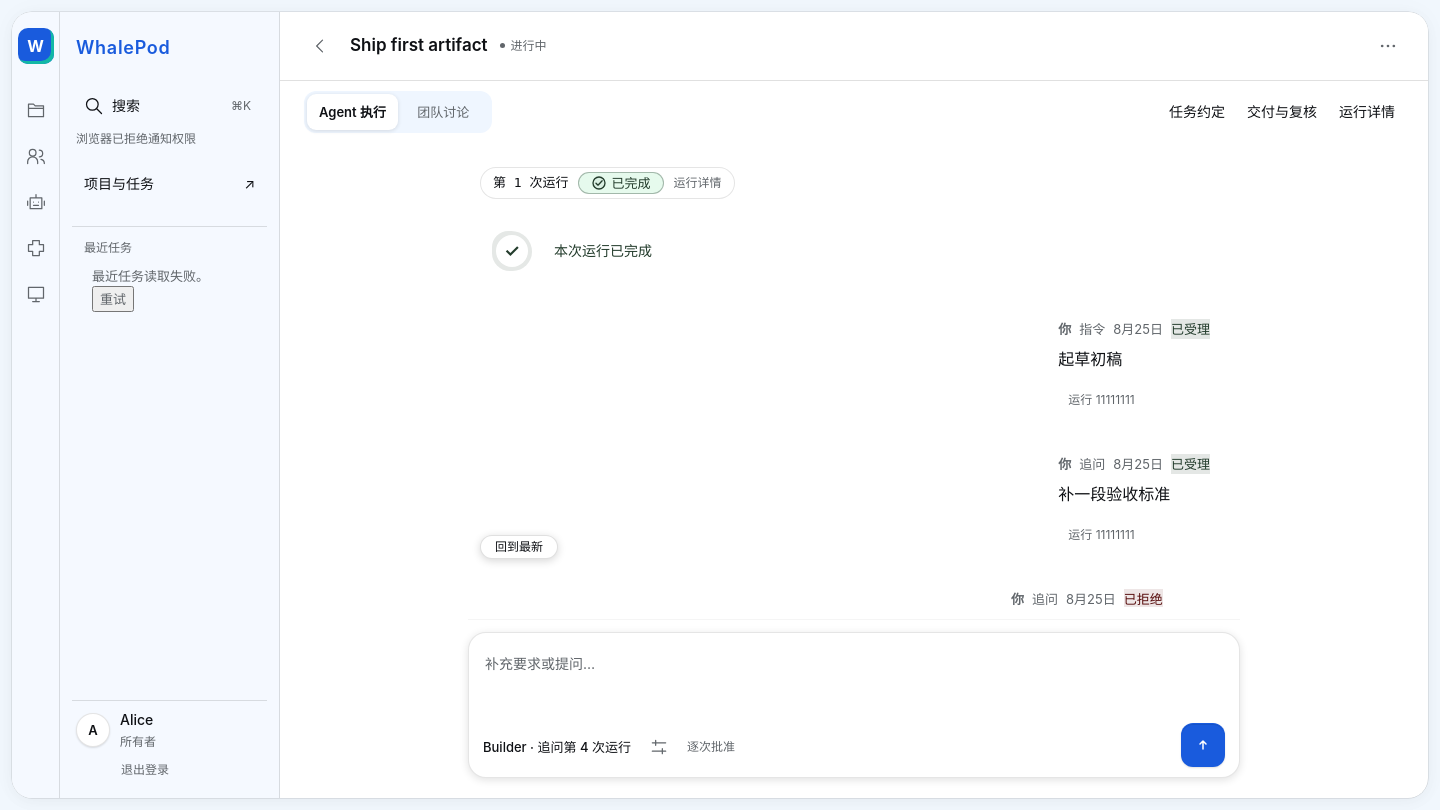
Test: 连续对话：段序与历史阅读（判据 1） › 多次执行/续聊/重跑/追问/拒绝指令连续呈现；历史回复不因查看另一运行而消失
Check: the list item with test id "run-segment" shows "起草初稿", box x1=1058 y1=349 x2=1122 y2=369
// 打开第 1 段的运行详情（查看历史）：别的段的回复不消失，发送目标不变。
Step 1. Click the button "第 1 次运行 已完成 运行详情" → click(607, 183), box x1=480 y1=167 x2=734 y2=199
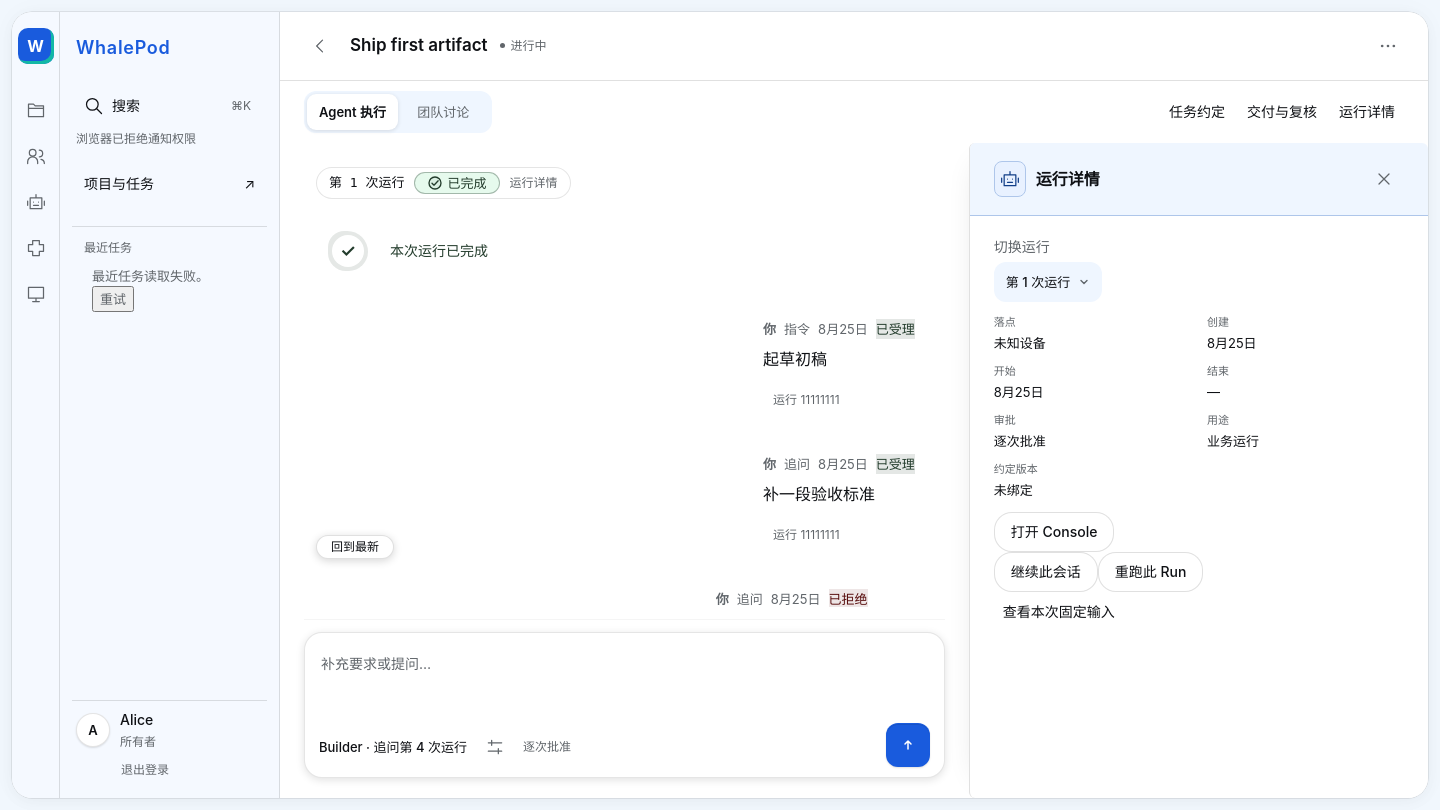
Check: the element with test id "run-detail-meta" is shown, box x1=994 y1=315 x2=1259 y2=498
// 血缘说人话：续跑自/重跑自第 N 次运行。
Step 2. Click the button with aria-label "切换运行" → click(1048, 282), box x1=994 y1=262 x2=1102 y2=302
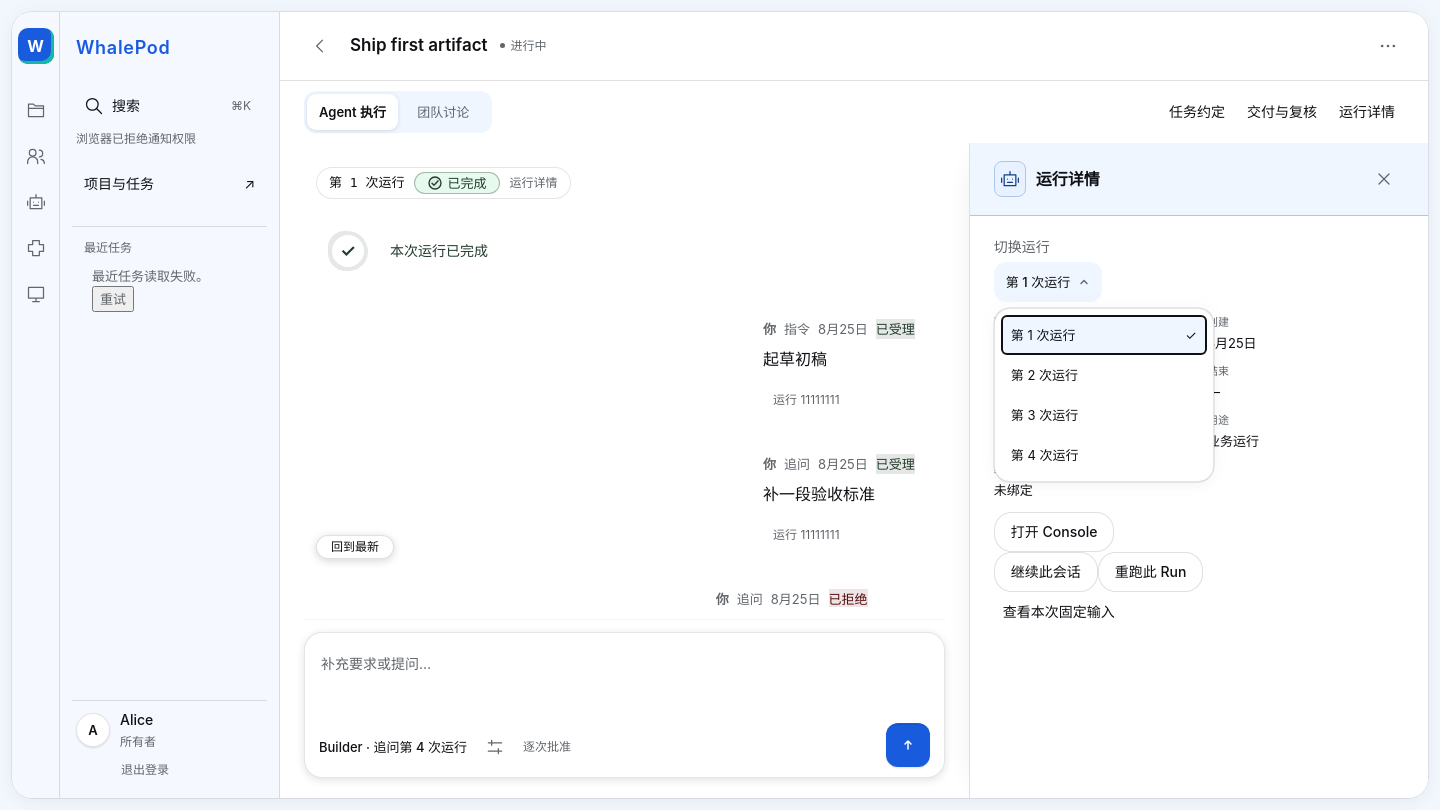
Step 3. Click the menu item "第 2 次运行" → click(1104, 375), box x1=1001 y1=355 x2=1207 y2=395
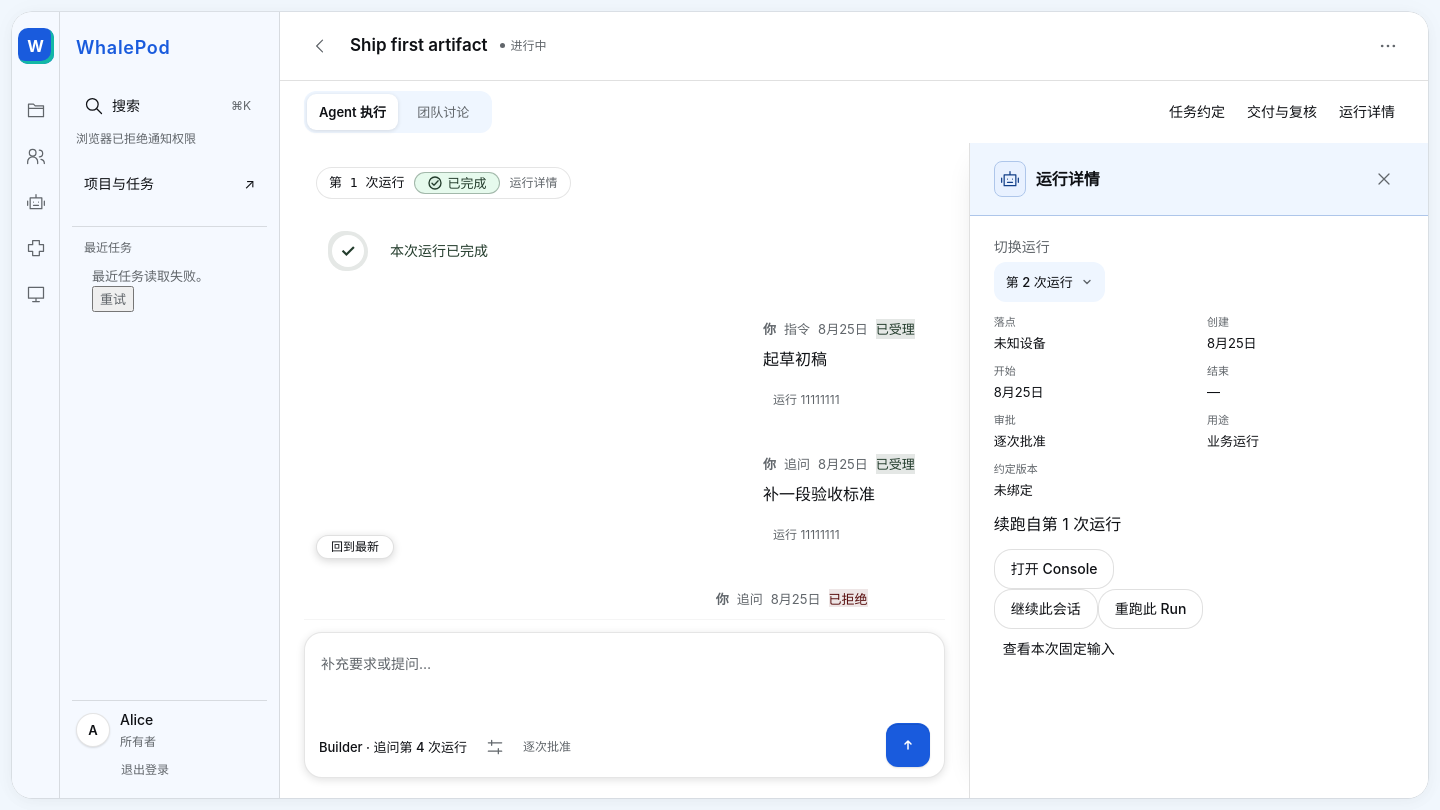
Check: the text "续跑自第 1 次运行" is shown, box x1=994 y1=514 x2=1121 y2=534
Step 4. Press Escape
(page scrolled)
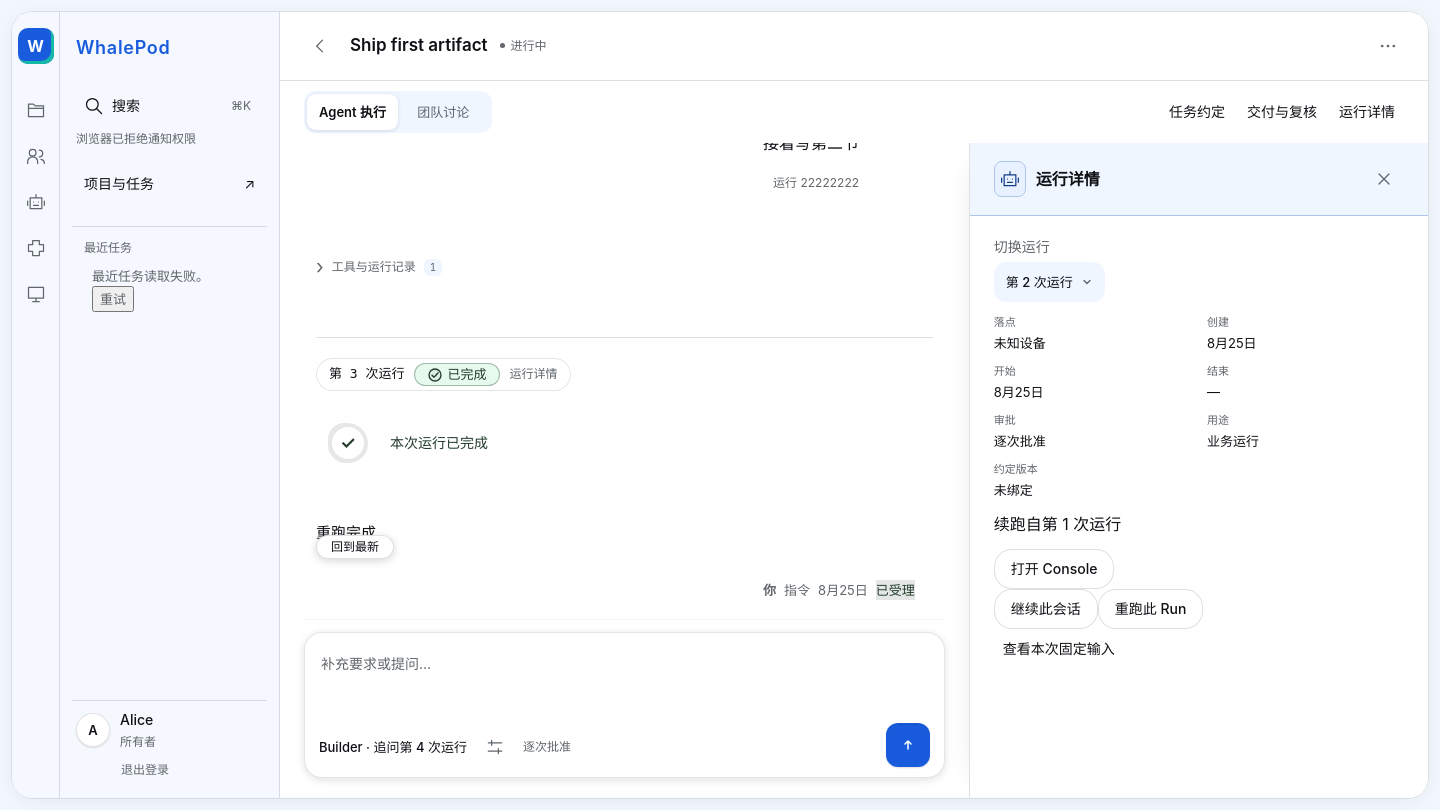
Step 5. Click the button "第 3 次运行 已完成 运行详情" → click(443, 375), box x1=316 y1=358 x2=570 y2=391
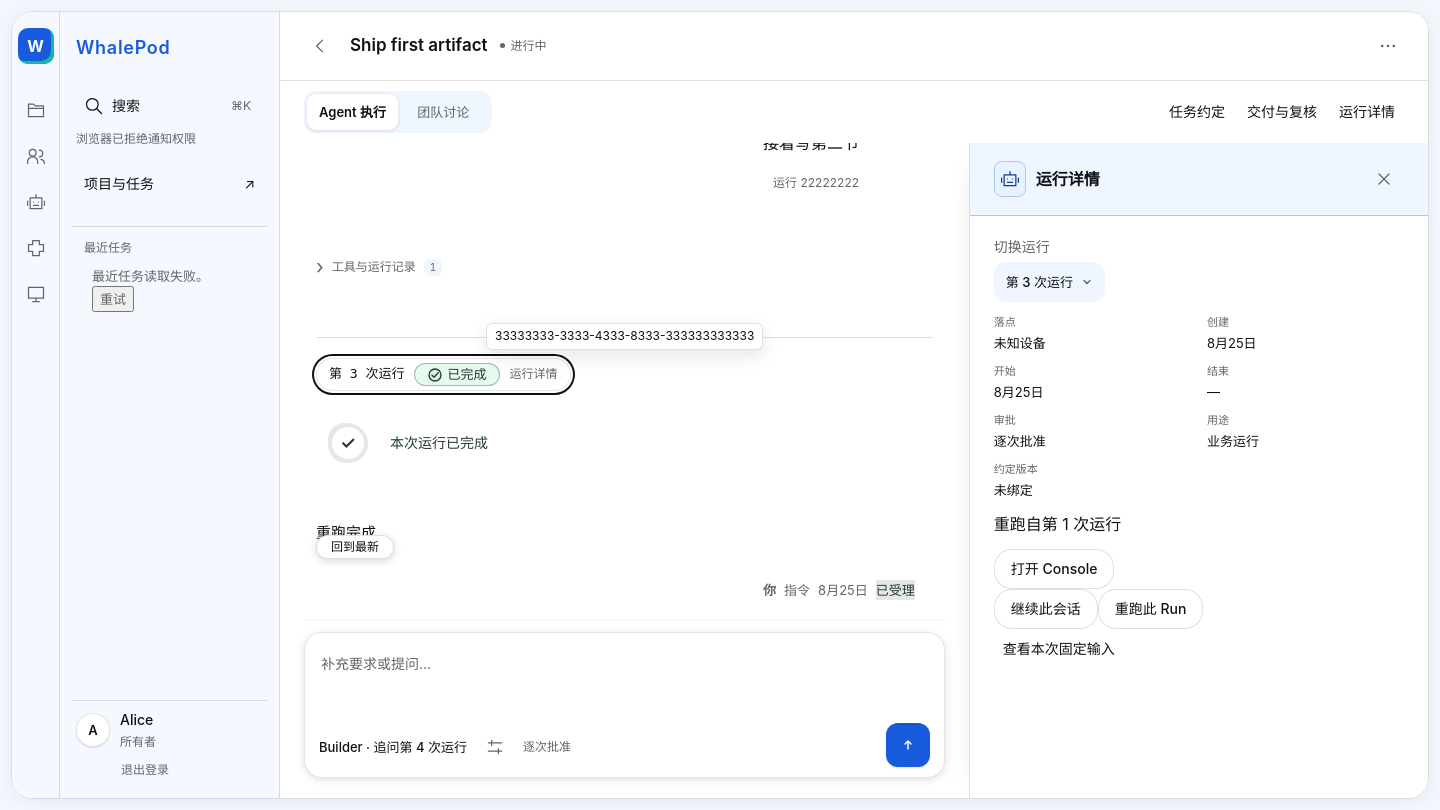
Check: the text "重跑自第 1 次运行" is shown, box x1=994 y1=514 x2=1121 y2=534
